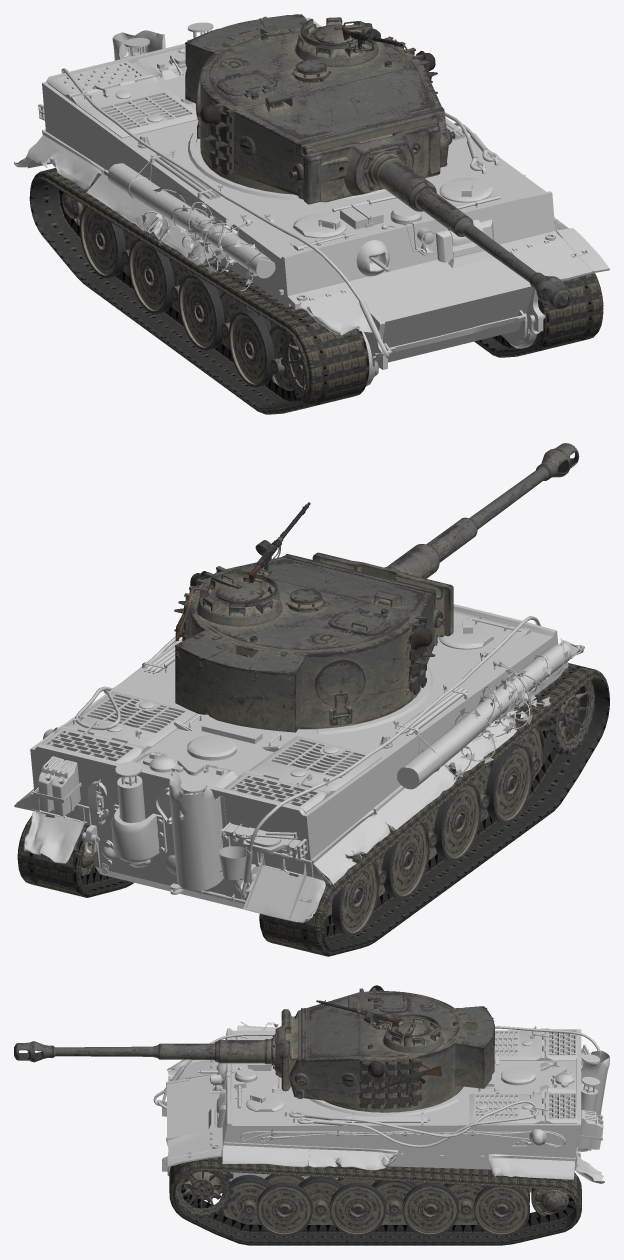
Rendered from Tiger I.fbx.
3 views of the same model, one above another, from view 1: azimuth 30°, elevation 25°; view 2: azimuth 150°, elevation 25°; view 3: azimuth 270°, elevation 25° (orthographic). The views are drawn at different scales.
Parts seen in each view (by area): view 1: german\G04_PzVI_Tiger_I\normal\l\Hull.pri~7~7, german\G04_PzVI_Tiger_I\normal\l\Turret_02.pri~7~8, german\G04_PzVI_Tiger_I\normal\l\Chassis.pri~7~3, german\G04_PzVI_Tiger_I\normal\l\Chassis.pri~7~2, german\G04_PzVI_Tiger_I\normal\l\Gun_05.pri~7~9, german\G04_PzVI_Tiger_I\normal\l\Chassis.pri~7~5, german\G04_PzVI_Tiger_I\normal\l\Chassis.pri~7~4; view 2: german\G04_PzVI_Tiger_I\normal\l\Hull.pri~7~7, german\G04_PzVI_Tiger_I\normal\l\Turret_02.pri~7~8, german\G04_PzVI_Tiger_I\normal\l\Chassis.pri~7~3, german\G04_PzVI_Tiger_I\normal\l\Chassis.pri~7~2, german\G04_PzVI_Tiger_I\normal\l\Gun_05.pri~7~9, german\G04_PzVI_Tiger_I\normal\l\Chassis.pri~7~5, german\G04_PzVI_Tiger_I\normal\l\Chassis.pri~7~4; view 3: german\G04_PzVI_Tiger_I\normal\l\Hull.pri~7~7, german\G04_PzVI_Tiger_I\normal\l\Turret_02.pri~7~8, german\G04_PzVI_Tiger_I\normal\l\Chassis.pri~7~1, german\G04_PzVI_Tiger_I\normal\l\Chassis.pri~7~5, german\G04_PzVI_Tiger_I\normal\l\Gun_05.pri~7~9, german\G04_PzVI_Tiger_I\normal\l\Chassis.pri~7~6.
Boxes of the visible parts, x1=… form: german\G04_PzVI_Tiger_I\normal\l\Hull.pri~7~7: x1=14, y1=16, x2=609, y2=386; german\G04_PzVI_Tiger_I\normal\l\Turret_02.pri~7~8: x1=185, y1=14, x2=455, y2=199; german\G04_PzVI_Tiger_I\normal\l\Chassis.pri~7~3: x1=29, y1=168, x2=369, y2=414; german\G04_PzVI_Tiger_I\normal\l\Chassis.pri~7~2: x1=62, y1=192, x2=305, y2=399; german\G04_PzVI_Tiger_I\normal\l\Gun_05.pri~7~9: x1=301, y1=123, x2=571, y2=309; german\G04_PzVI_Tiger_I\normal\l\Chassis.pri~7~5: x1=474, y1=273, x2=603, y2=357; german\G04_PzVI_Tiger_I\normal\l\Chassis.pri~7~4: x1=221, y1=278, x2=313, y2=331; german\G04_PzVI_Tiger_I\normal\l\Hull.pri~7~7: x1=14, y1=604, x2=584, y2=922; german\G04_PzVI_Tiger_I\normal\l\Turret_02.pri~7~8: x1=174, y1=502, x2=446, y2=732; german\G04_PzVI_Tiger_I\normal\l\Chassis.pri~7~3: x1=259, y1=663, x2=609, y2=956; german\G04_PzVI_Tiger_I\normal\l\Chassis.pri~7~2: x1=326, y1=680, x2=594, y2=935; german\G04_PzVI_Tiger_I\normal\l\Gun_05.pri~7~9: x1=312, y1=443, x2=579, y2=637; german\G04_PzVI_Tiger_I\normal\l\Chassis.pri~7~5: x1=17, y1=815, x2=133, y2=897; german\G04_PzVI_Tiger_I\normal\l\Chassis.pri~7~4: x1=509, y1=668, x2=589, y2=737; german\G04_PzVI_Tiger_I\normal\l\Hull.pri~7~7: x1=153, y1=1022, x2=609, y2=1192; german\G04_PzVI_Tiger_I\normal\l\Turret_02.pri~7~8: x1=289, y1=985, x2=494, y2=1112; german\G04_PzVI_Tiger_I\normal\l\Chassis.pri~7~1: x1=175, y1=1170, x2=568, y2=1236; german\G04_PzVI_Tiger_I\normal\l\Chassis.pri~7~5: x1=169, y1=1159, x2=581, y2=1245; german\G04_PzVI_Tiger_I\normal\l\Gun_05.pri~7~9: x1=14, y1=1009, x2=298, y2=1090; german\G04_PzVI_Tiger_I\normal\l\Chassis.pri~7~6: x1=202, y1=1156, x2=298, y2=1175.
Bounding box in the file's own units: 3.9 × 3.3 × 8.47.
